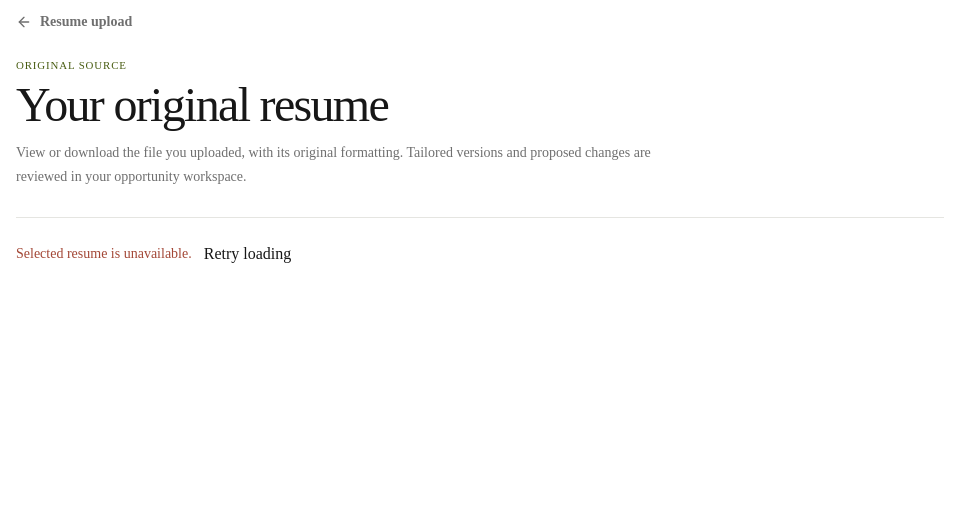
Test: keeps an unavailable explicit resume unselected and lets the owner refresh that exact request
Expected: the text "Selected resume is unavailable." is shown, [16, 244, 192, 264]
Expected: the button "Download original" is not shown
Click the button "Retry loading" at (247, 254), box [204, 242, 291, 266]
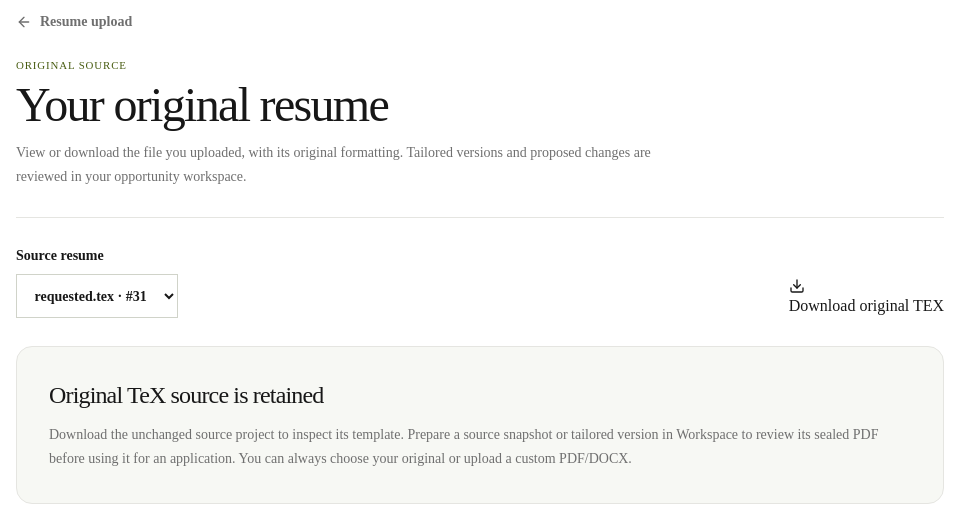
Now the button "Download original TEX" is shown, box [789, 278, 944, 318]
